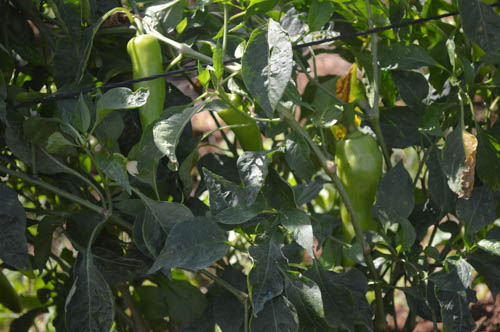ChiliPepper: (335, 136, 382, 238), (128, 34, 168, 125), (219, 98, 265, 158)
